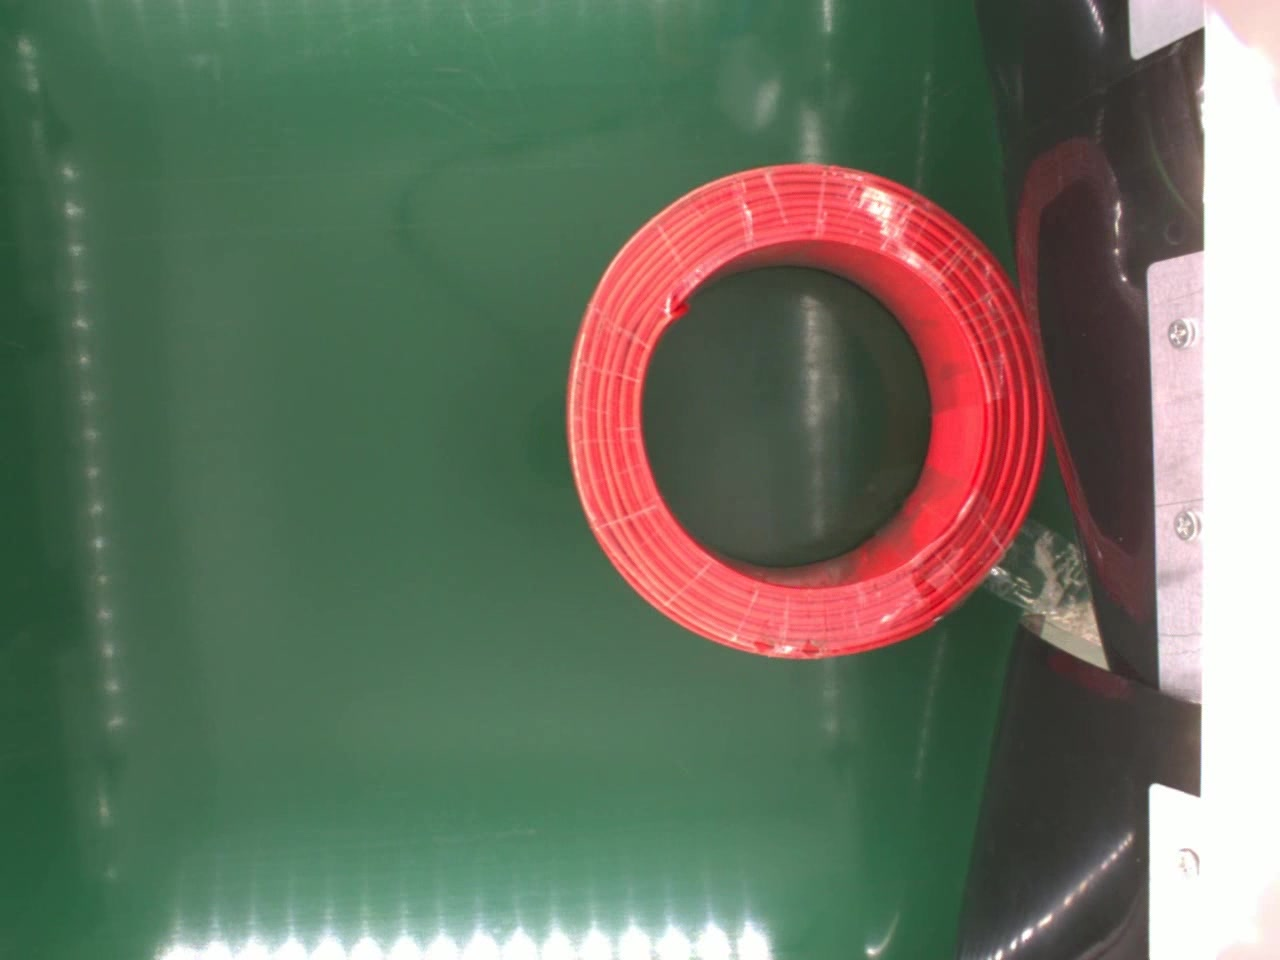red: (563, 156, 1047, 668)
